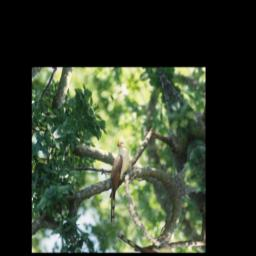Cuckoo: (82, 137, 152, 226)
